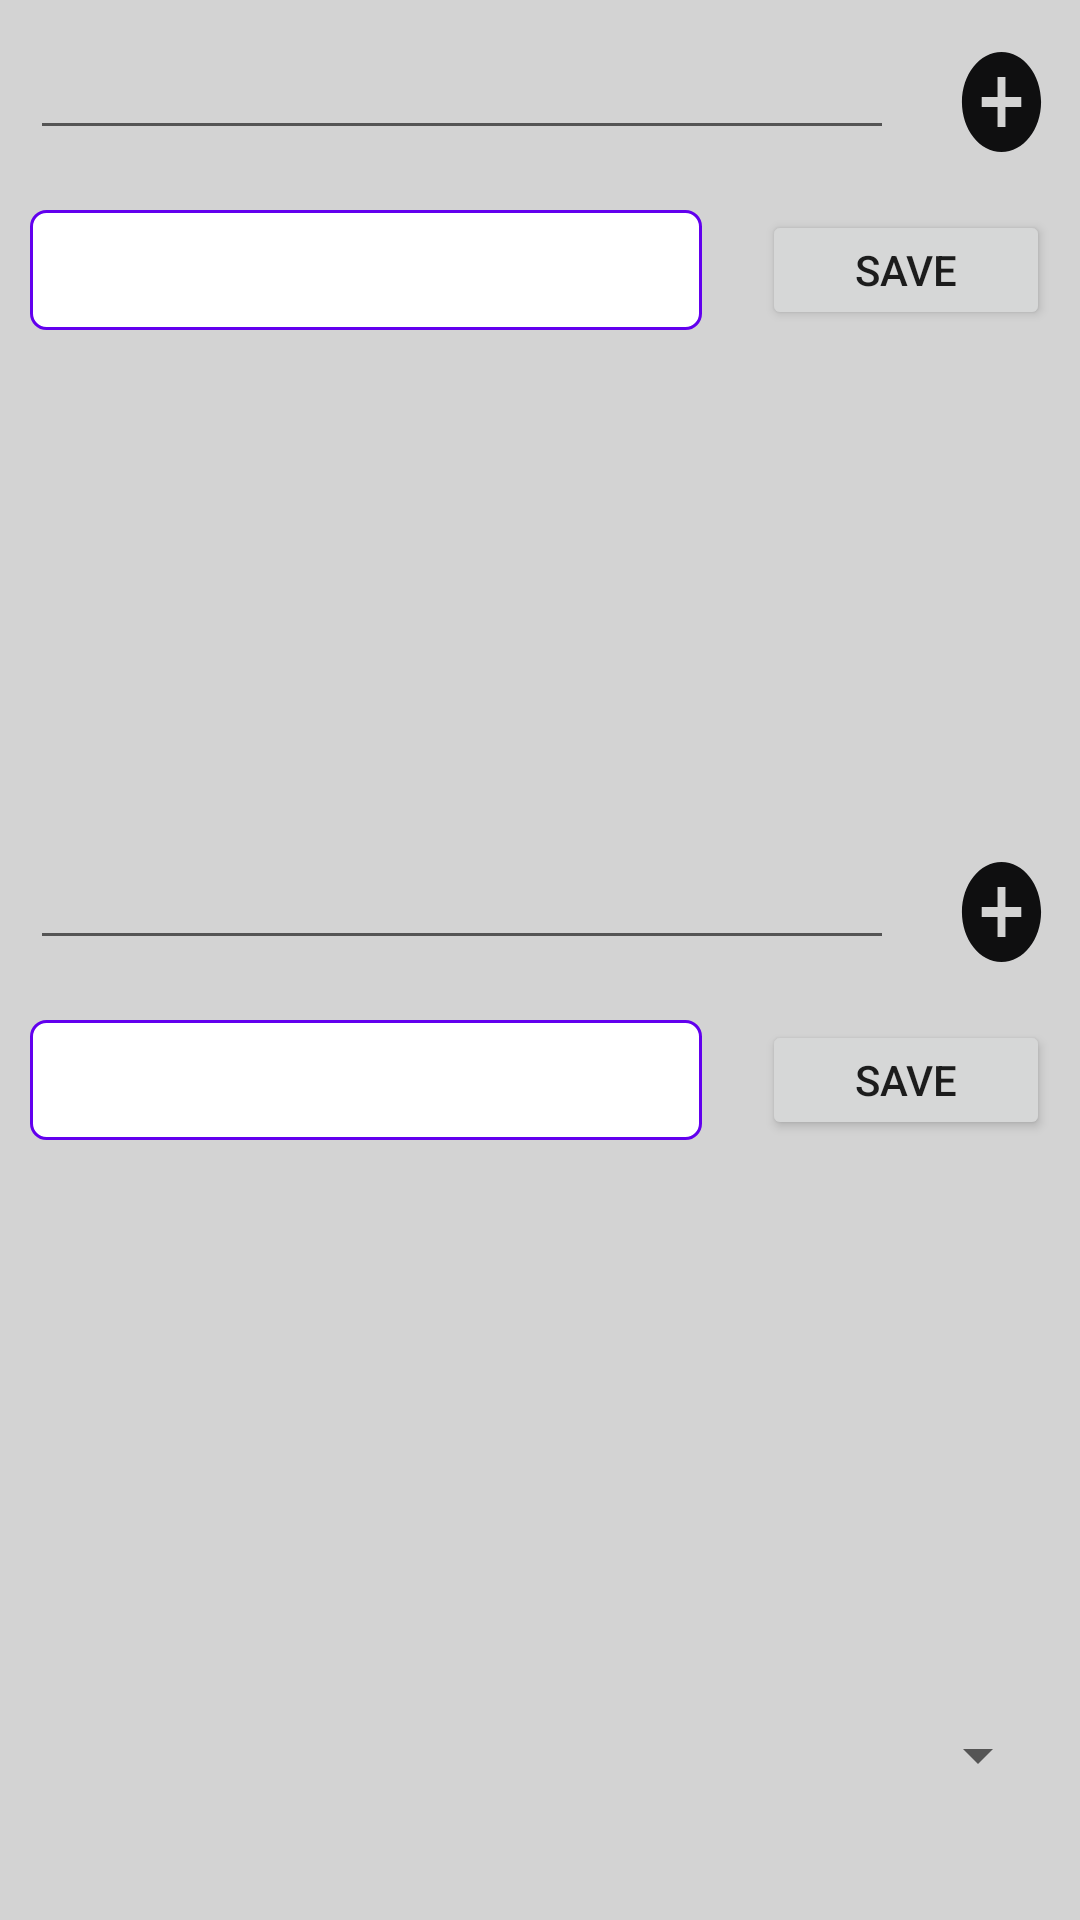

Icons on this 1080w x 1920h Android screen, each with the point to tap as (x=x, y=y):
add circle: (x=1001, y=102), (x=1001, y=912)
